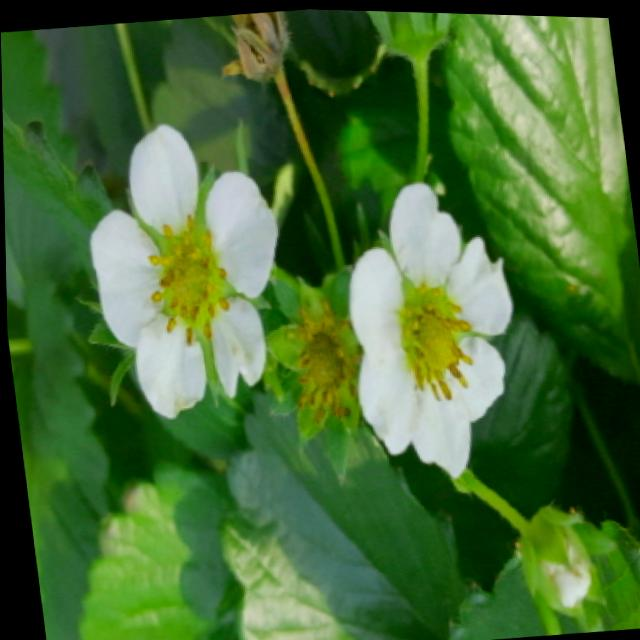Blossom Blight: (139, 210, 237, 352), (391, 276, 478, 405), (287, 310, 359, 424)
